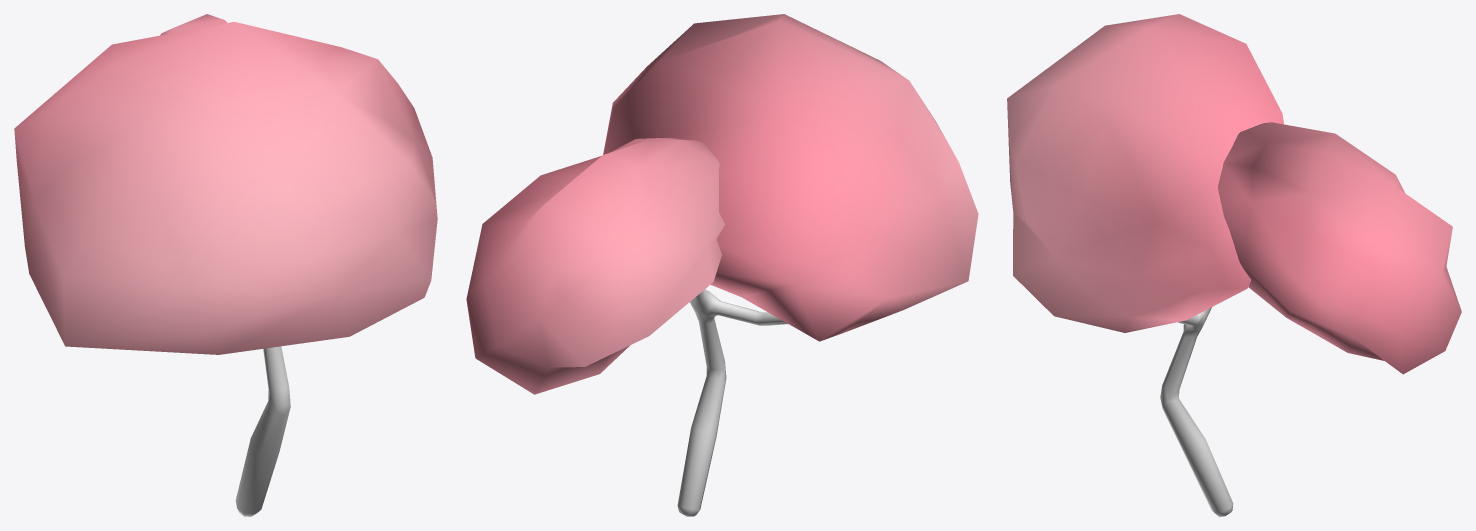
The model's file is Cotton_3.fbx.
3 renders of one model, left to right at view 1: azimuth 30°, elevation 25°; view 2: azimuth 150°, elevation 25°; view 3: azimuth 270°, elevation 25°, orthographic. The views are drawn at different scales.
Parts seen in each view (by area): view 1: Cotton_3, Cotton_3_Branch; view 2: Cotton_3, Cotton_3_Branch; view 3: Cotton_3, Cotton_3_Branch.
Part boxes in pixels (bbox=[...]): Cotton_3: bbox=[14, 14, 437, 354]; Cotton_3_Branch: bbox=[235, 346, 290, 516]; Cotton_3: bbox=[466, 14, 978, 394]; Cotton_3_Branch: bbox=[677, 288, 788, 516]; Cotton_3: bbox=[1007, 14, 1461, 374]; Cotton_3_Branch: bbox=[1160, 307, 1233, 516].
Size of the model in its own units: 240 by 307 by 273.
Materials: 2 (1 with a texture image).
